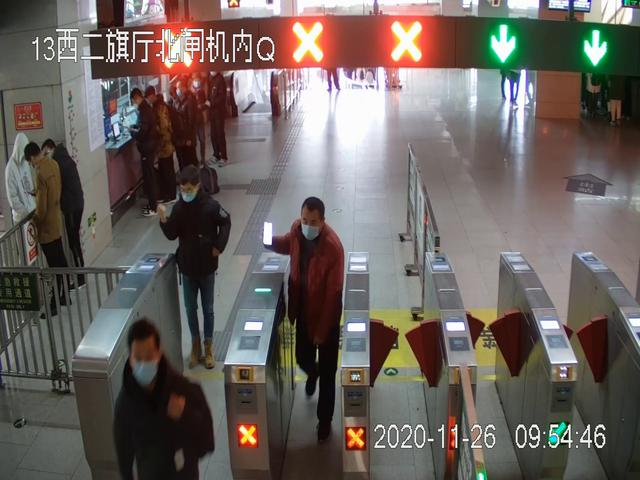person: (271, 198, 344, 442), (113, 319, 215, 480), (158, 165, 231, 370), (23, 142, 74, 318), (39, 138, 93, 289), (127, 88, 161, 215), (144, 83, 180, 201), (4, 132, 34, 270), (204, 69, 231, 163)
